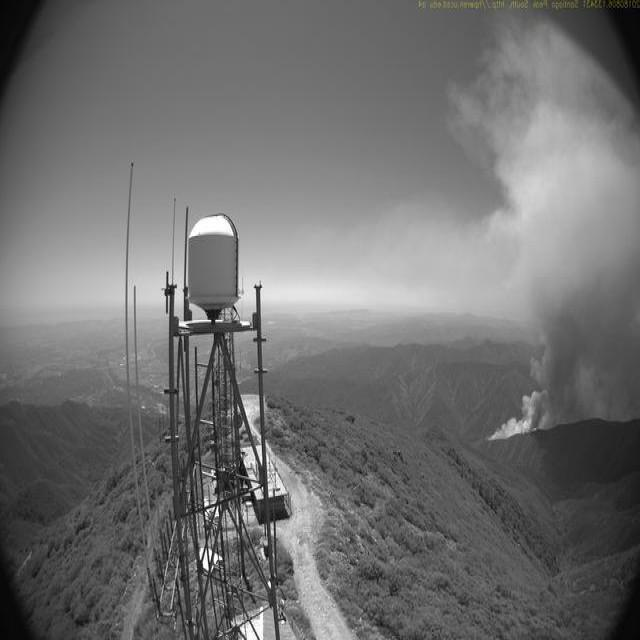Smoke: (475, 16, 639, 448)
